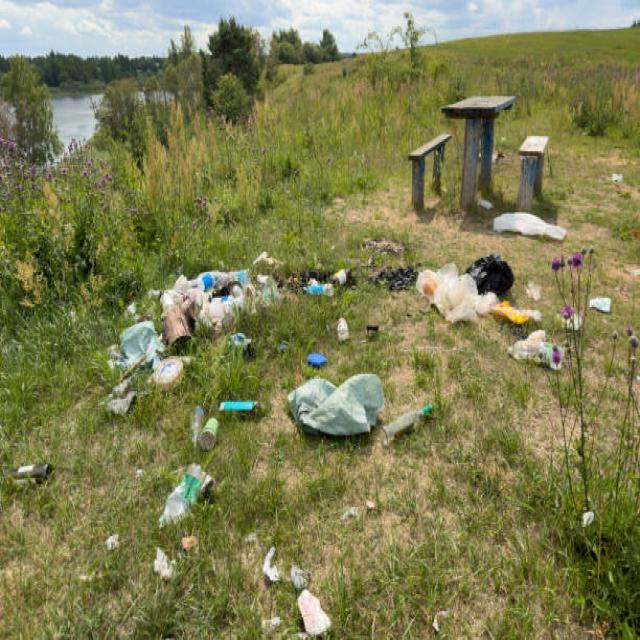glass: (383, 406, 433, 442)
plastic: (430, 274, 468, 314), (166, 477, 194, 522), (198, 417, 220, 448)
trash: (474, 260, 509, 292)
